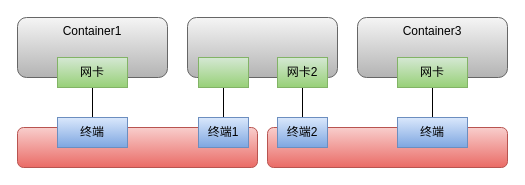
Image size: 525x185. Some labels were removed from this diagram. The box of each missing label's shape, as (x1, y1, x2, y2) in pixels:
bridge1: (16, 126, 258, 168)
bridge2: (266, 126, 508, 168)
Container2: (186, 16, 338, 78)
网卡1: (198, 56, 248, 88)
